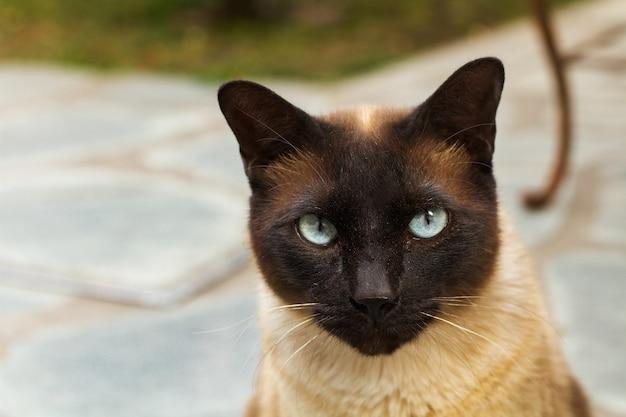siamese: (215, 49, 518, 365)
